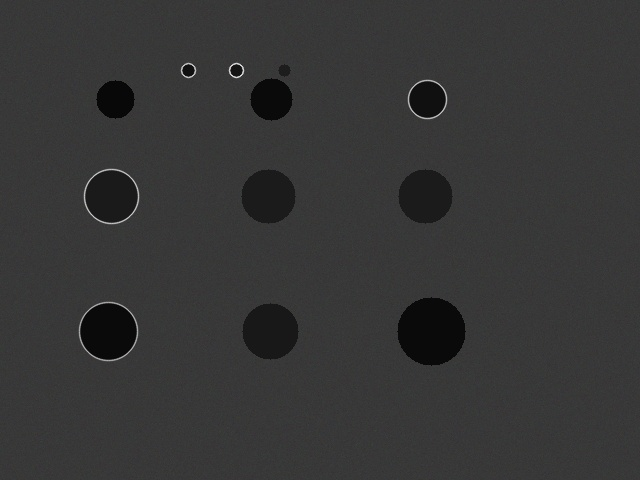hole: (397, 297, 465, 365), (79, 302, 137, 360), (242, 303, 298, 359), (84, 169, 138, 223), (241, 169, 295, 223), (398, 169, 452, 223), (250, 78, 292, 120), (96, 80, 134, 118), (408, 80, 446, 118), (181, 63, 195, 77), (229, 63, 243, 77), (278, 64, 290, 76)
